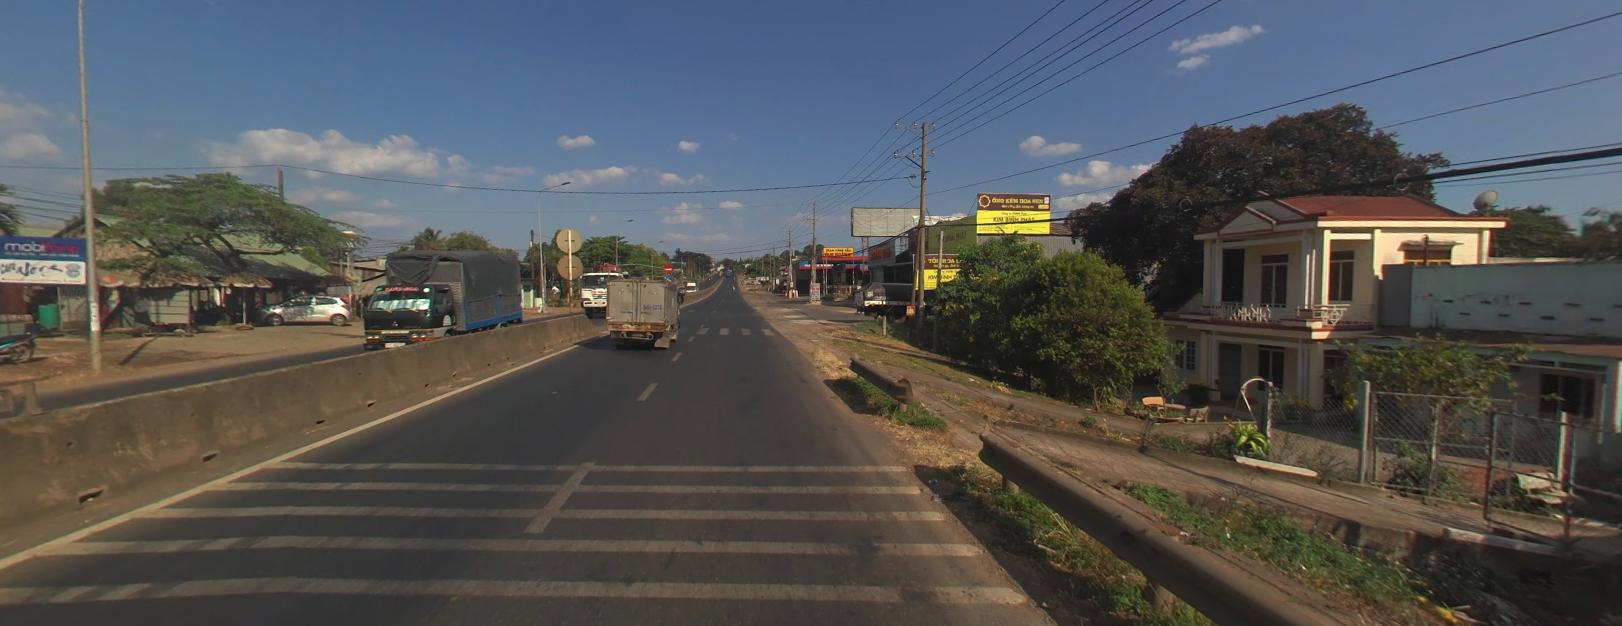Cam nguoc chieu: (663, 262, 672, 271)
